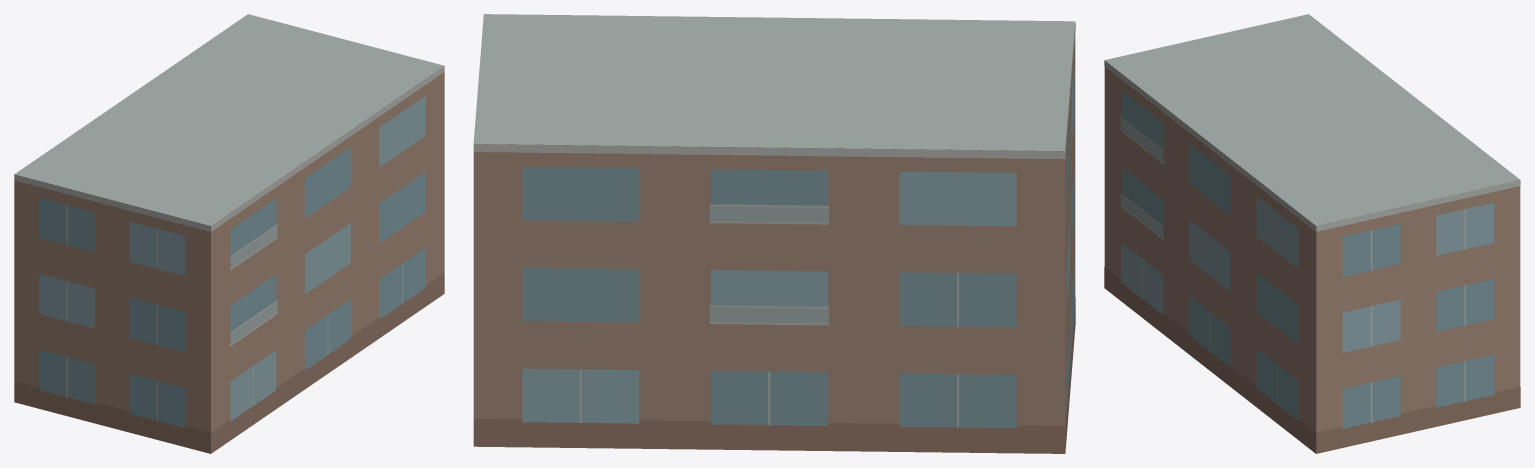
File: survey-upis-33038511.glb
The picture shows the model from 3 angles, left to right: view 1: azimuth 30°, elevation 25°; view 2: azimuth 150°, elevation 25°; view 3: azimuth 270°, elevation 25°; orthographic projection. The views are drawn at different scales.
Visible parts, largest first — view 1: survey-upis-33038511.tmp; view 2: survey-upis-33038511.tmp; view 3: survey-upis-33038511.tmp.
Part boxes in pixels (x1=…): survey-upis-33038511.tmp: x1=14, y1=14, x2=444, y2=453; survey-upis-33038511.tmp: x1=473, y1=14, x2=1075, y2=453; survey-upis-33038511.tmp: x1=1104, y1=14, x2=1520, y2=453.
Bounding box in the file's own units: 18.25 × 9.15 × 15.14.
